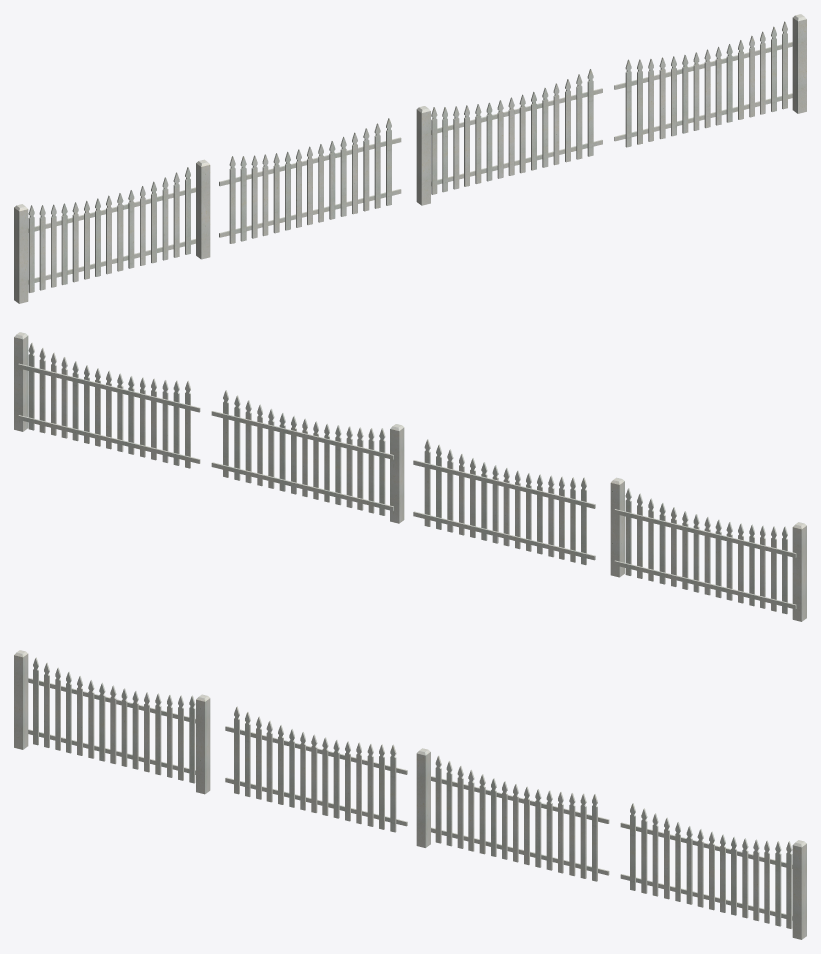
The model's file is picket fence sections.obj.
3 renders of one model, top to bottom at view 1: azimuth 30°, elevation 25°; view 2: azimuth 150°, elevation 25°; view 3: azimuth 330°, elevation 25°, orthographic.
Visible parts, largest first — view 1: closed_section, halfopen_section, halfopen_section01, open_section06; view 2: closed_section, halfopen_section, halfopen_section01, open_section06; view 3: closed_section, halfopen_section, halfopen_section01, open_section06.
Boxes of the visible parts, x1=… form: closed_section: x1=14, y1=159, x2=210, y2=303; halfopen_section: x1=416, y1=69, x2=602, y2=205; halfopen_section01: x1=614, y1=14, x2=806, y2=147; open_section06: x1=219, y1=118, x2=401, y2=243; closed_section: x1=610, y1=477, x2=806, y2=621; halfopen_section: x1=211, y1=390, x2=404, y2=523; halfopen_section01: x1=14, y1=332, x2=200, y2=468; open_section06: x1=413, y1=439, x2=595, y2=565; closed_section: x1=14, y1=650, x2=210, y2=794; halfopen_section: x1=416, y1=748, x2=609, y2=881; halfopen_section01: x1=620, y1=803, x2=806, y2=939; open_section06: x1=225, y1=706, x2=407, y2=832.
Size of the model in its own units: 138 by 15.87 by 1.88.
